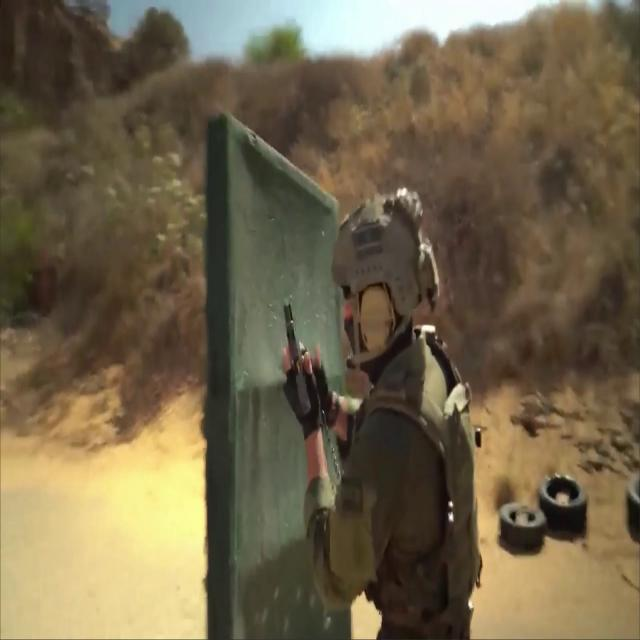Gun: (282, 303, 304, 400)
